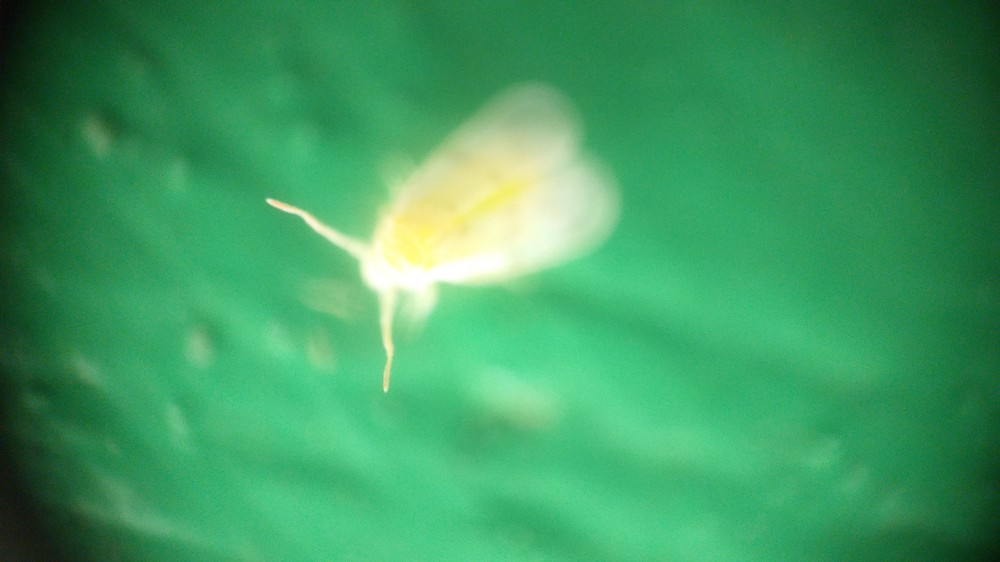Mosca Blanca: (256, 73, 645, 409)
